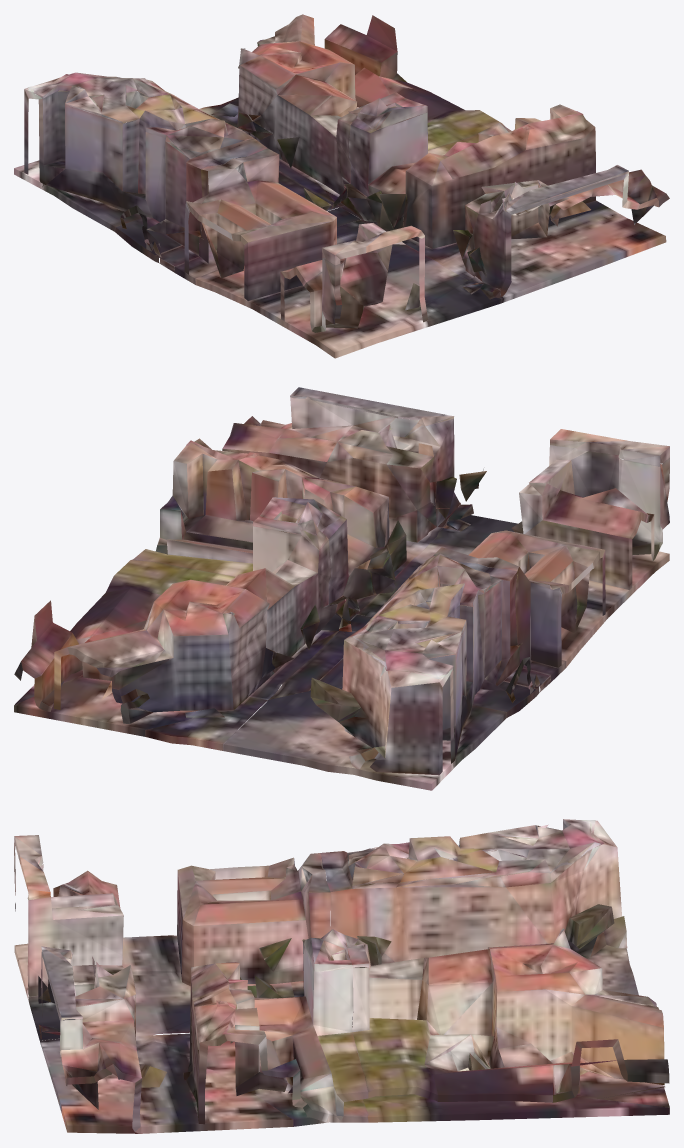
3 renders of one model, top to bottom at view 1: azimuth 30°, elevation 25°; view 2: azimuth 150°, elevation 25°; view 3: azimuth 270°, elevation 25°, orthographic. The views are drawn at different scales.
Parts seen in each view (by area): view 1: Mesh_0; view 2: Mesh_0; view 3: Mesh_0.
Boxes of the visible parts, x1,y1,x2,y2 form: Mesh_0: (14, 14, 669, 358); Mesh_0: (14, 387, 669, 790); Mesh_0: (14, 819, 669, 1133).
Size of the model in its own units: 134 by 36.73 by 165.
1 material, 1 textured.
